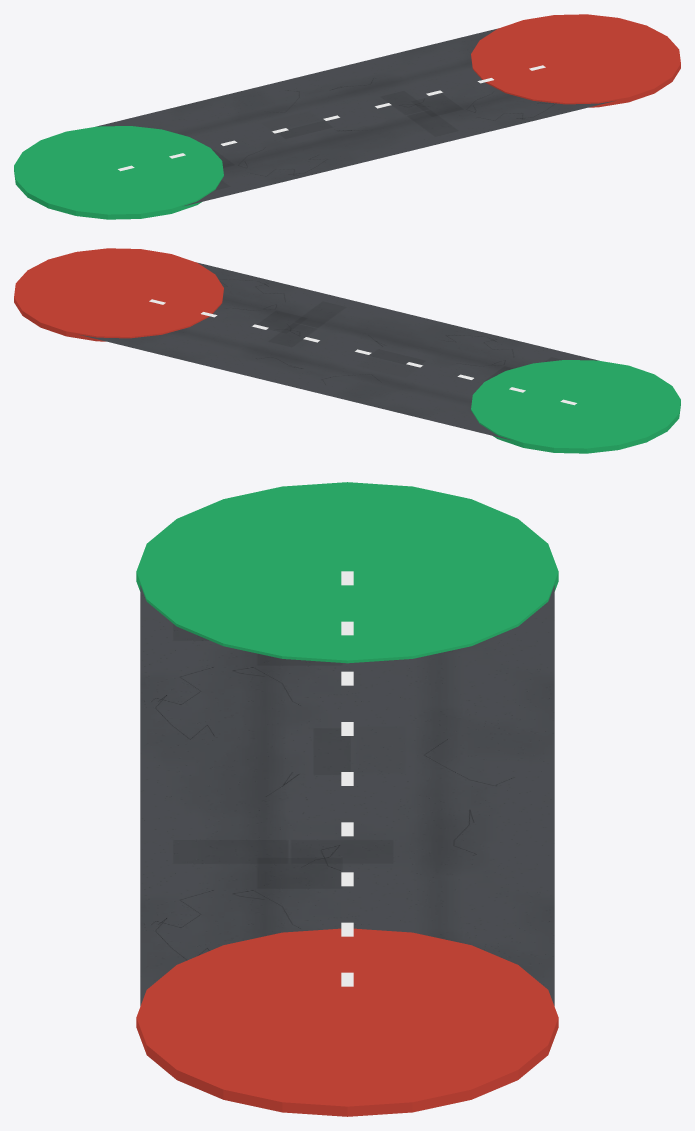
The model's file is pista.glb.
The picture shows the model from 3 angles, top to bottom: view 1: azimuth 30°, elevation 25°; view 2: azimuth 150°, elevation 25°; view 3: azimuth 270°, elevation 25°; orthographic projection. The views are drawn at different scales.
Size of the model in its own units: 39.2 by 0.2997 by 11.2.
Materials: 4 (1 with a texture image).
